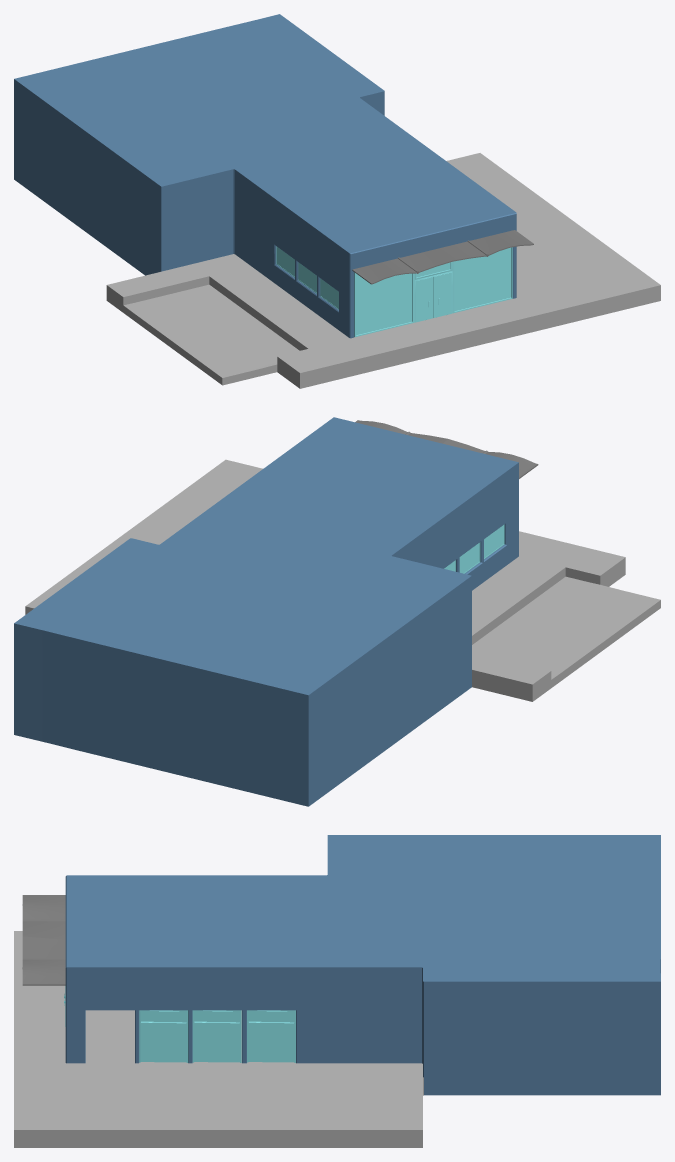
Rendered from building (1).fbx.
3 views of the same model, one above another, from view 1: azimuth 30°, elevation 25°; view 2: azimuth 150°, elevation 25°; view 3: azimuth 270°, elevation 25° (orthographic). The views are drawn at different scales.
Parts seen in each view (by area): view 1: Building, FrontWall, Roof, FrontDoor_R, FrontDoor_L; view 2: Building, Roof; view 3: Building, GlassWall_S_Window (×3), Roof, GlassWall_S (×3).
Boxes of the visible parts, bbox=[...] form: Building: bbox=[14, 14, 660, 388]; FrontWall: bbox=[354, 247, 512, 337]; Roof: bbox=[352, 230, 533, 284]; FrontDoor_R: bbox=[433, 272, 451, 317]; FrontDoor_L: bbox=[416, 276, 433, 322]; Building: bbox=[14, 417, 660, 806]; Roof: bbox=[355, 420, 538, 478]; Building: bbox=[14, 835, 660, 1147]; GlassWall_S_Window (×3): bbox=[139, 1010, 295, 1062]; Roof: bbox=[22, 895, 65, 985]; GlassWall_S (×3): bbox=[141, 1011, 294, 1022].
Bounding box in the file's own units: 2279 × 527 × 2718.
